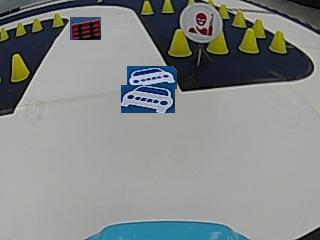evil: (179, 4, 222, 43)
